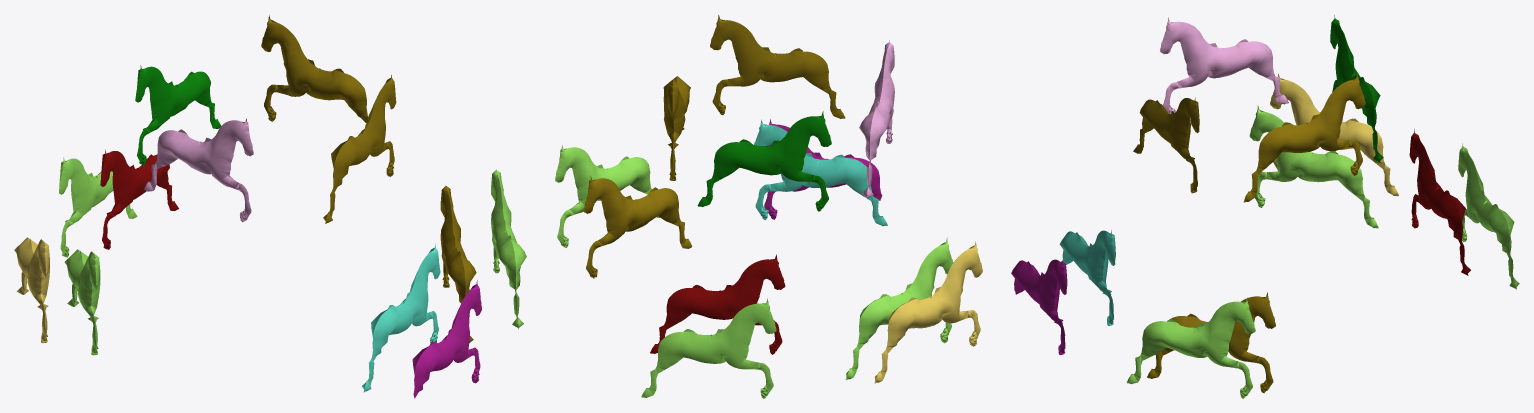
The model's file is caballos.obj.
3 views of the same model, side by side, from view 1: azimuth 30°, elevation 25°; view 2: azimuth 150°, elevation 25°; view 3: azimuth 270°, elevation 25° (orthographic). The views are drawn at different scales.
Parts seen in each view (by area): view 1: caballos_M009, caballos_M010, caballos_M011, caballos_M004, caballos_M008, caballos_M005, caballos_M001, caballos_M006, caballos_M, caballos_M007, caballos_M003, caballos_M002; view 2: caballos_M008, caballos_M, caballos_M011, caballos_M001, caballos_M002, caballos_M007, caballos_M004, caballos_M006, caballos_M003, caballos_M010, caballos_M009, caballos_M005; view 3: caballos_M006, caballos_M010, caballos_M009, caballos_M003, caballos_M001, caballos_M008, caballos_M, caballos_M002, caballos_M005, caballos_M004, caballos_M007, caballos_M011.
Part boxes in pixels (x1=…): caballos_M009: x1=261, y1=15, x2=368, y2=123; caballos_M010: x1=144, y1=118, x2=253, y2=222; caballos_M011: x1=135, y1=65, x2=221, y2=165; caballos_M004: x1=362, y1=243, x2=440, y2=392; caballos_M008: x1=323, y1=74, x2=396, y2=223; caballos_M005: x1=412, y1=280, x2=481, y2=398; caballos_M001: x1=100, y1=149, x2=178, y2=249; caballos_M006: x1=491, y1=169, x2=526, y2=329; caballos_M: x1=59, y1=157, x2=137, y2=257; caballos_M007: x1=440, y1=185, x2=476, y2=342; caballos_M003: x1=64, y1=249, x2=100, y2=355; caballos_M002: x1=14, y1=237, x2=49, y2=343; caballos_M008: x1=710, y1=15, x2=845, y2=118; caballos_M: x1=641, y1=298, x2=776, y2=398; caballos_M011: x1=697, y1=111, x2=831, y2=211; caballos_M001: x1=650, y1=254, x2=785, y2=354; caballos_M002: x1=874, y1=241, x2=982, y2=383; caballos_M007: x1=584, y1=175, x2=692, y2=278; caballos_M004: x1=754, y1=119, x2=887, y2=226; caballos_M006: x1=555, y1=145, x2=659, y2=247; caballos_M003: x1=845, y1=237, x2=953, y2=379; caballos_M010: x1=859, y1=40, x2=894, y2=199; caballos_M009: x1=663, y1=76, x2=690, y2=180; caballos_M005: x1=764, y1=119, x2=882, y2=219; caballos_M006: x1=1126, y1=297, x2=1255, y2=398; caballos_M010: x1=1160, y1=17, x2=1288, y2=113; caballos_M009: x1=1243, y1=73, x2=1365, y2=202; caballos_M003: x1=1249, y1=105, x2=1378, y2=228; caballos_M001: x1=1409, y1=129, x2=1470, y2=275; caballos_M008: x1=1133, y1=97, x2=1199, y2=193; caballos_M: x1=1458, y1=143, x2=1519, y2=289; caballos_M002: x1=1270, y1=73, x2=1398, y2=196; caballos_M005: x1=1011, y1=259, x2=1067, y2=354; caballos_M004: x1=1059, y1=230, x2=1115, y2=325; caballos_M007: x1=1147, y1=292, x2=1275, y2=393; caballos_M011: x1=1330, y1=15, x2=1383, y2=162.
Bounding box in the file's own units: 76.15 × 44.93 × 78.54.
